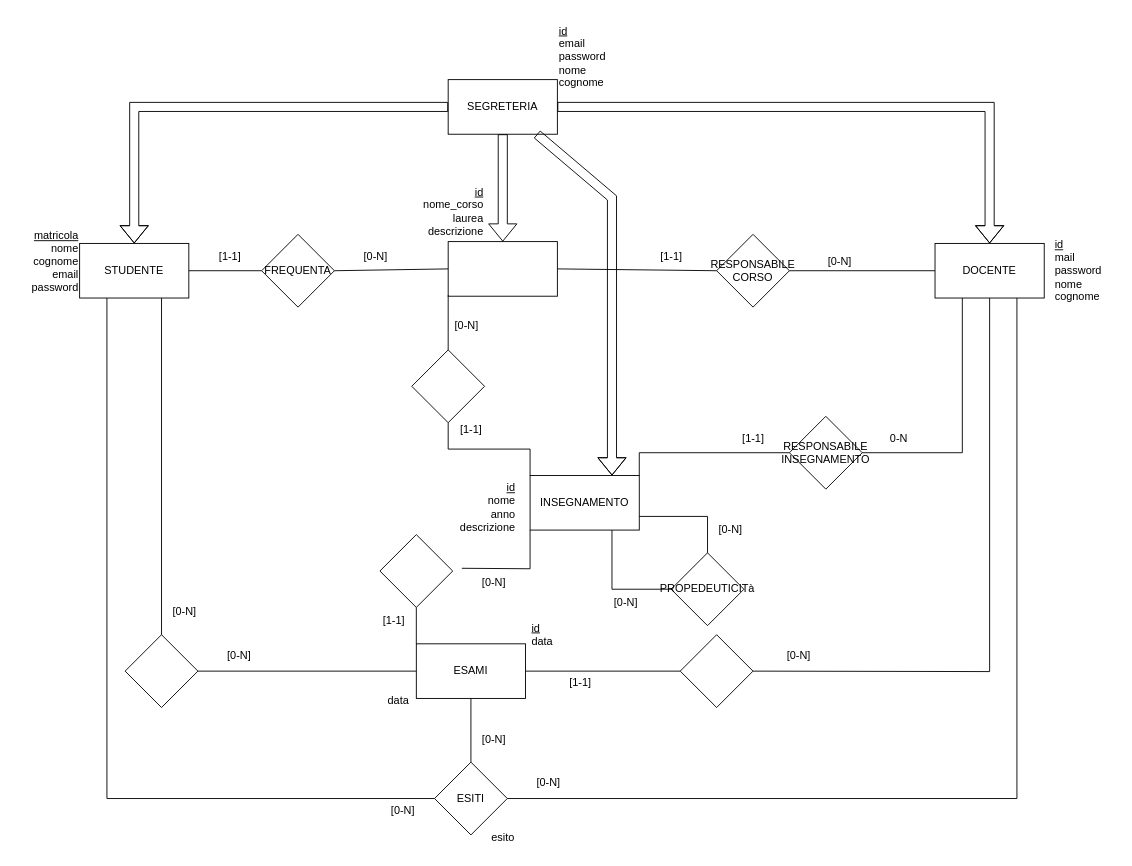
Some shapes in this 1132 by 866 pixel diagram are drawn without their labels. The centre of each missing label's shape, as x and y in pixels:
"COMPOSTO DA" belongs at (x=448, y=386).
"CORSO" belongs at (x=502, y=268).
"INSEGNAMENTO RIGUARDANTE" belongs at (x=416, y=570).
"ISCRIZIONI" belongs at (x=161, y=671).
"RESPONSABILE" belongs at (x=716, y=671).
